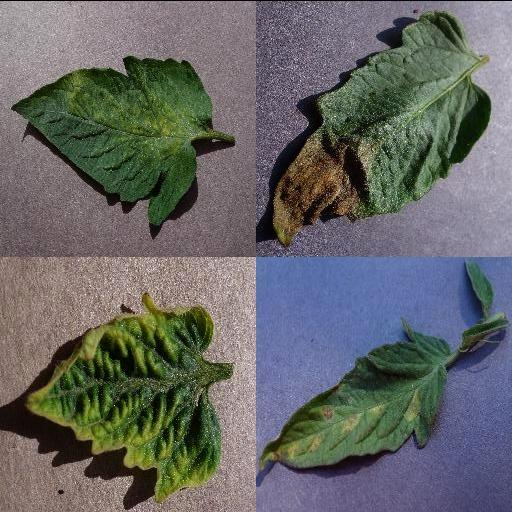Late Blight: (269, 6, 493, 248)
Leaf Mold: (258, 317, 452, 469)
Spider Mites: (9, 56, 215, 225)
Yellow Leaf Curl Virus: (27, 291, 223, 502)
